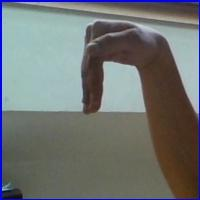del: (80, 18, 176, 125)
